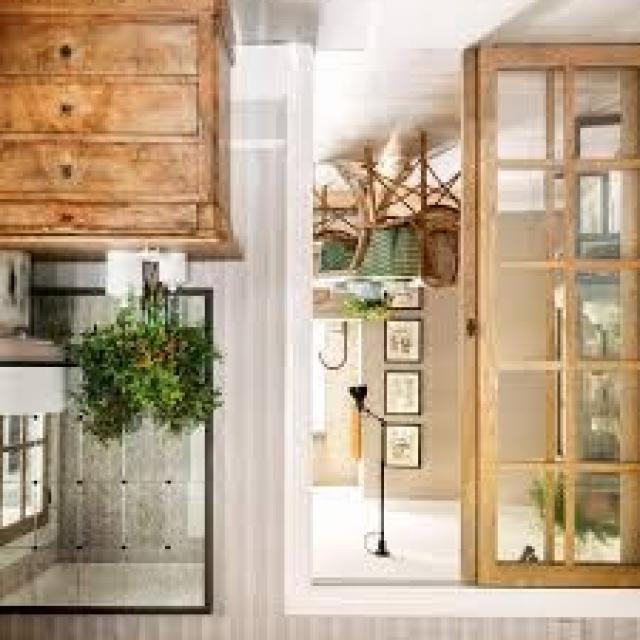door: (469, 42, 640, 588)
